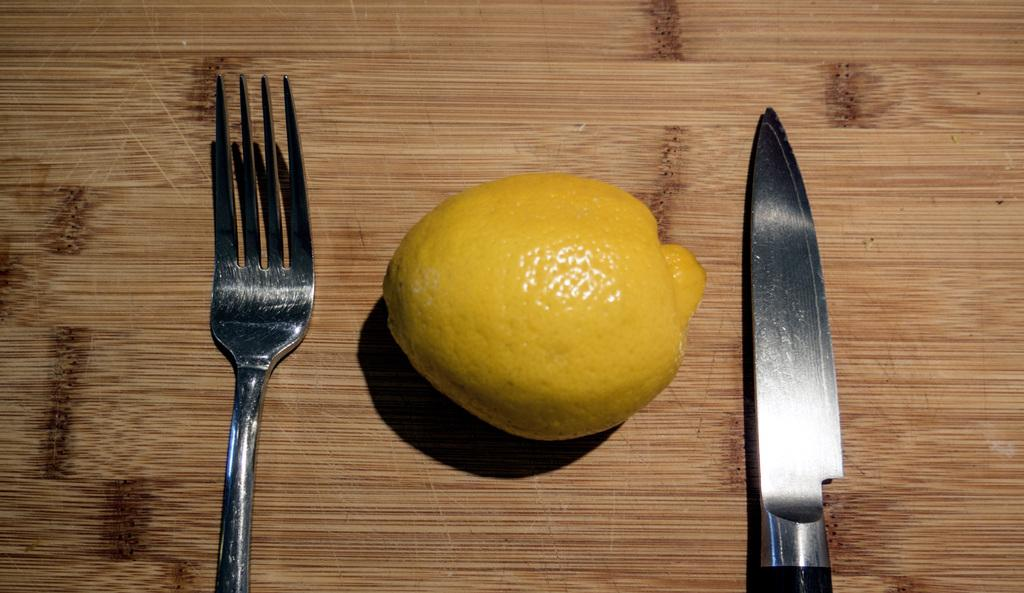Knife: (739, 107, 842, 592)
